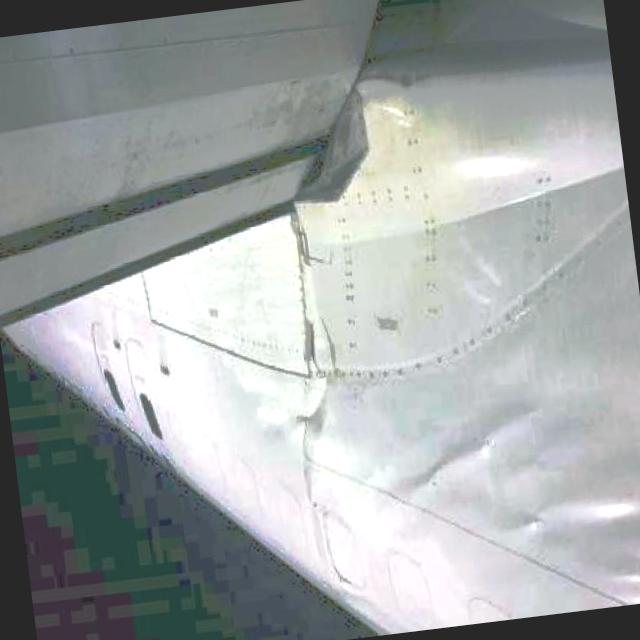dent: (380, 412, 530, 544), (251, 373, 336, 458), (448, 246, 509, 318), (545, 492, 639, 536), (454, 143, 530, 197), (604, 531, 640, 604)
